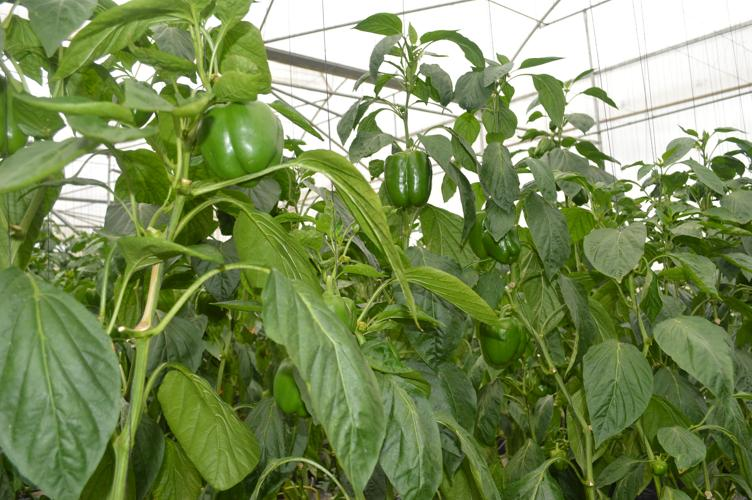BellPepper: (192, 98, 287, 189), (376, 147, 433, 217), (264, 353, 314, 427), (479, 308, 526, 375), (473, 215, 521, 272)
